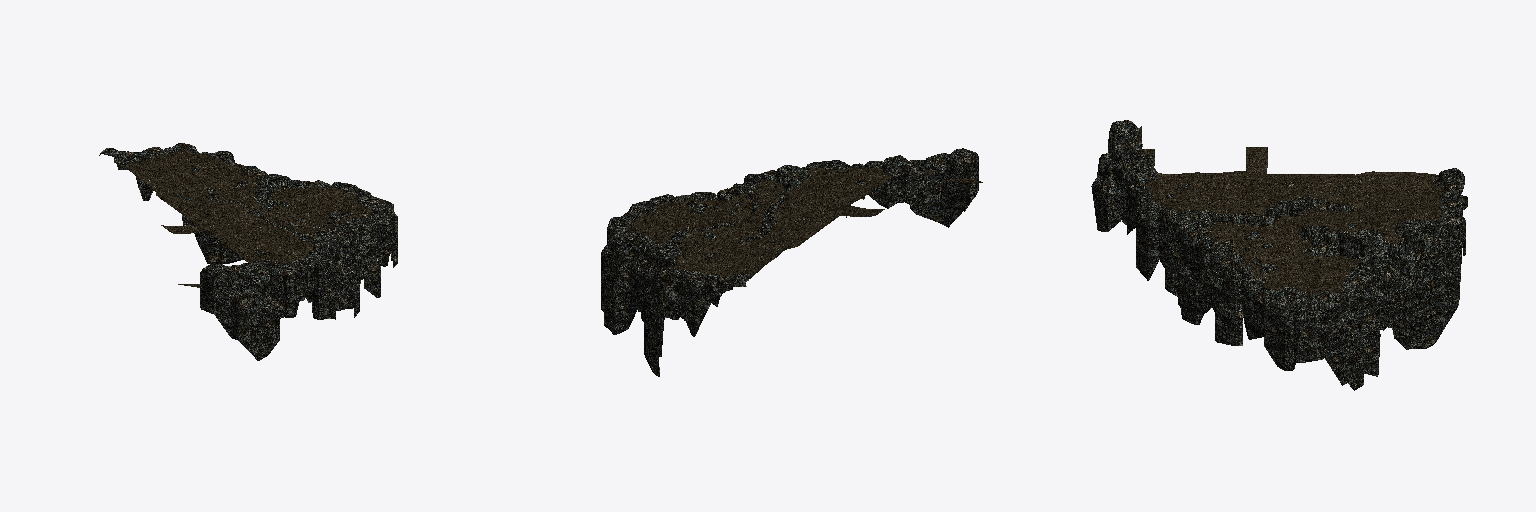
3 views of the same model, side by side, from view 1: azimuth 30°, elevation 25°; view 2: azimuth 150°, elevation 25°; view 3: azimuth 270°, elevation 25° (orthographic).
Parts seen in each view (by area): view 1: mesh0, mesh1; view 2: mesh0, mesh1; view 3: mesh0, mesh1.
Part boxes in pixels (bbox=[...]): mesh0: bbox=[99, 143, 397, 360]; mesh1: bbox=[116, 149, 372, 287]; mesh0: bbox=[601, 148, 978, 376]; mesh1: bbox=[627, 166, 982, 278]; mesh0: bbox=[1091, 120, 1467, 390]; mesh1: bbox=[1139, 126, 1443, 293].
Bounding box in the file's own units: 53.4 × 25.22 × 59.03.
Materials: 2 (2 with a texture image).